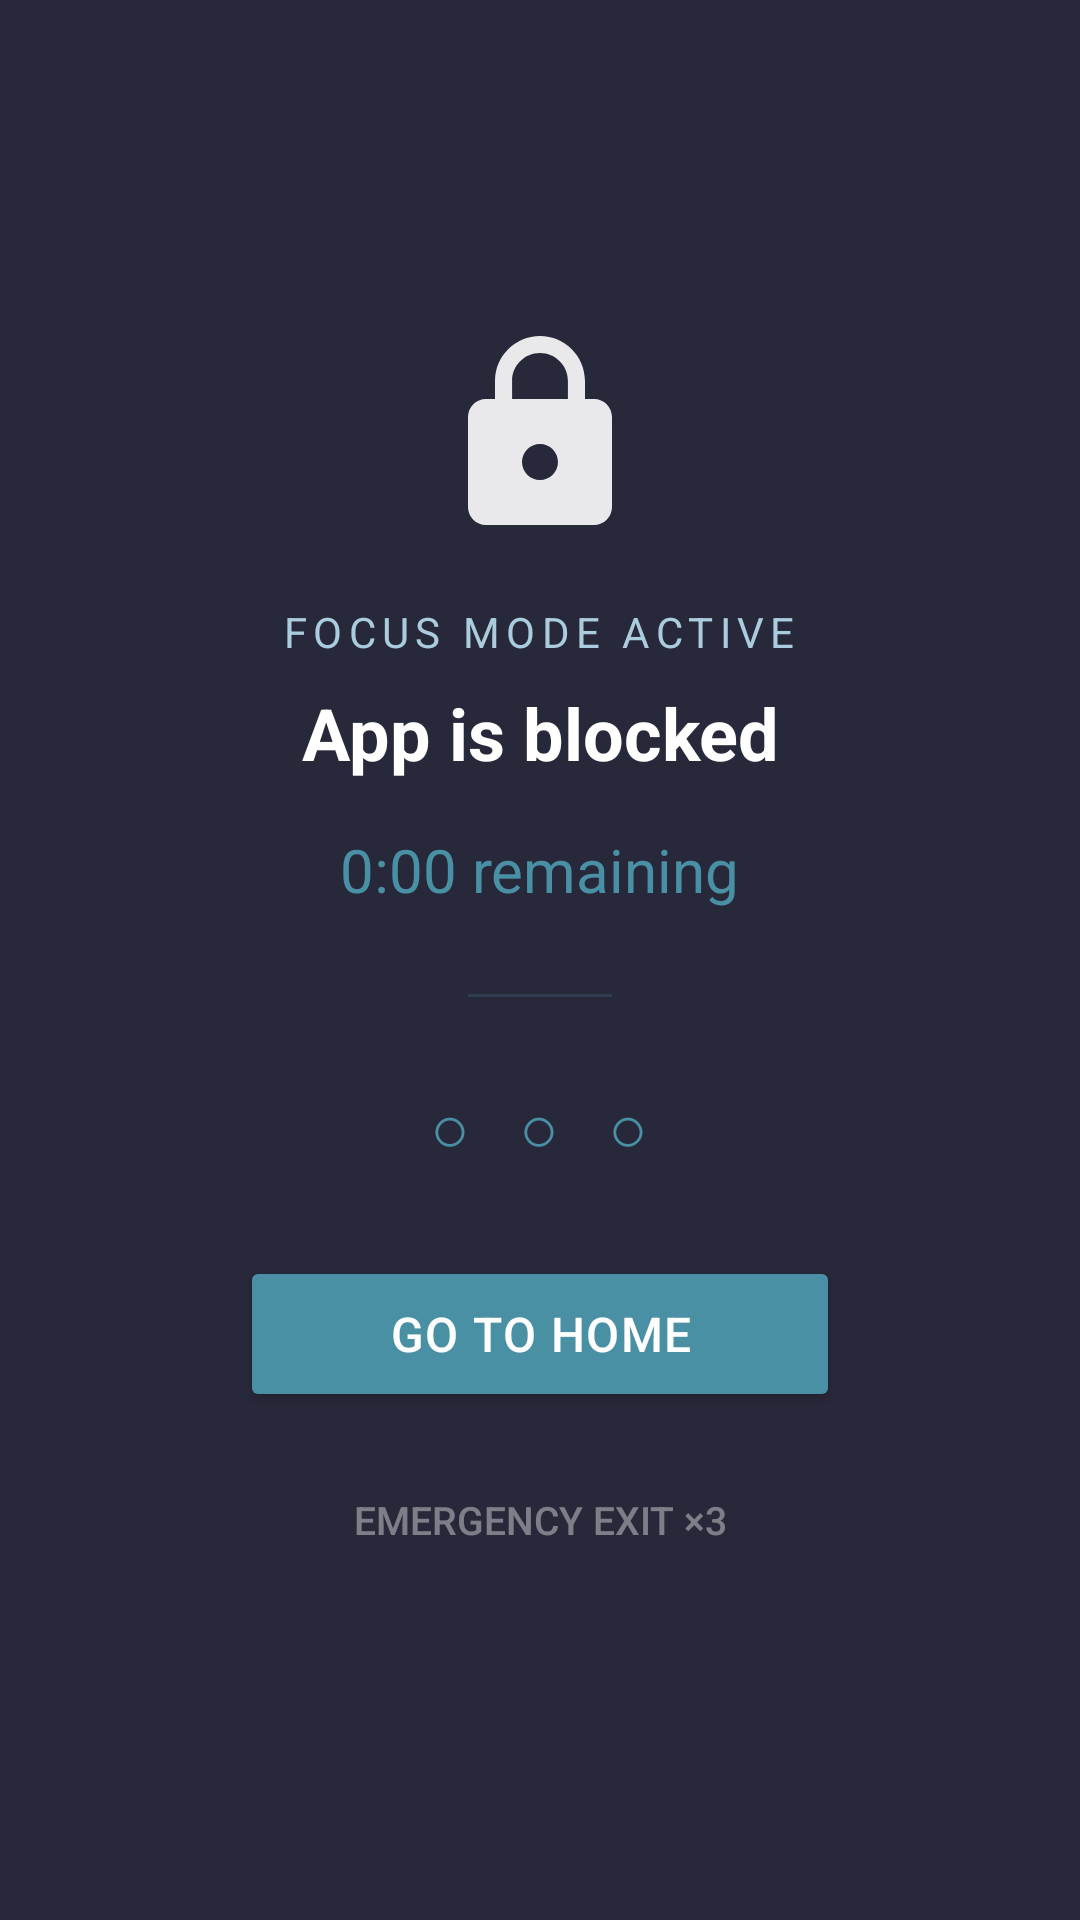

Screen size 1080px×1920px. Icon name, then its center in pixels as (x=x, y=y):
Focus mode lock: (x=540, y=430)
